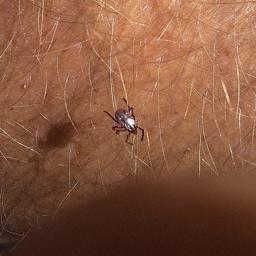Rhipicephalus sanguineus: (103, 97, 146, 146)
